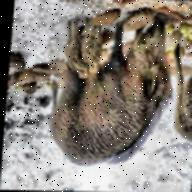boar: (38, 14, 178, 180), (78, 18, 108, 78), (57, 27, 87, 79)
